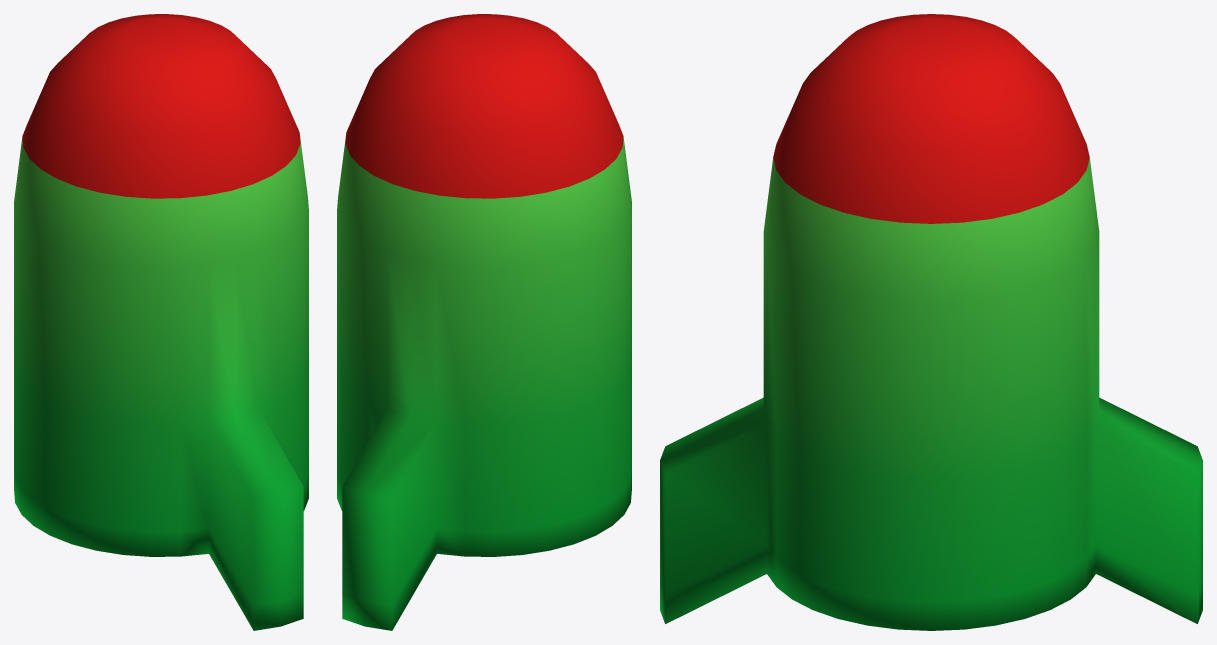
The model's file is ракета 2.fbx.
3 renders of one model, left to right at view 1: azimuth 30°, elevation 25°; view 2: azimuth 150°, elevation 25°; view 3: azimuth 270°, elevation 25°, orthographic. The views are drawn at different scales.
Parts seen in each view (by area): view 1: Cylinder; view 2: Cylinder; view 3: Cylinder.
Part boxes in pixels (bbox=[...]): Cylinder: bbox=[14, 14, 308, 630]; Cylinder: bbox=[337, 14, 631, 630]; Cylinder: bbox=[660, 14, 1202, 630].
Bounding box in the file's own units: 200 × 377 × 324.
